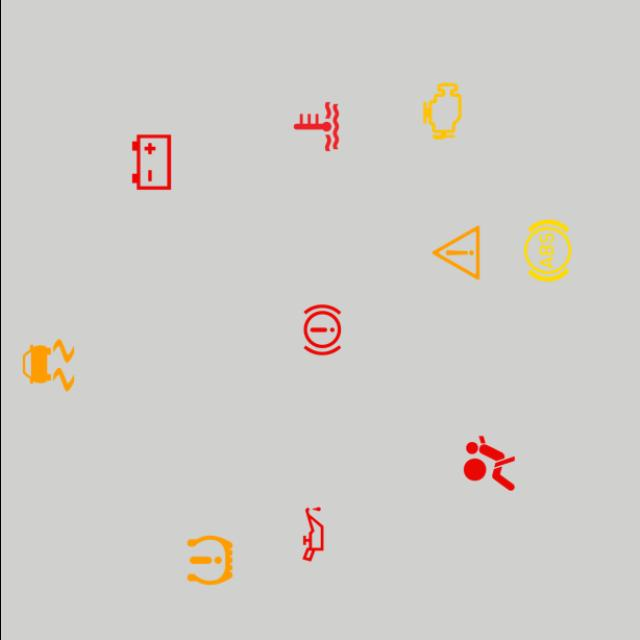Anti Lock Braking System: (512, 217, 580, 284)
Braking System Issue: (288, 296, 356, 364)
Charging System Issue: (116, 128, 184, 196)
Check Engine: (408, 77, 476, 145)
Electronic Stability Problem -ESP-: (14, 332, 82, 399)
Engine Overheating Warning Light: (282, 92, 350, 160)
Low Engine Oil Warning Light: (278, 500, 346, 568)
Low Tire Pressure Warning Light: (175, 526, 243, 594)
Master warning light: (421, 219, 489, 287)
SRS-Airbag: (454, 430, 522, 498)
